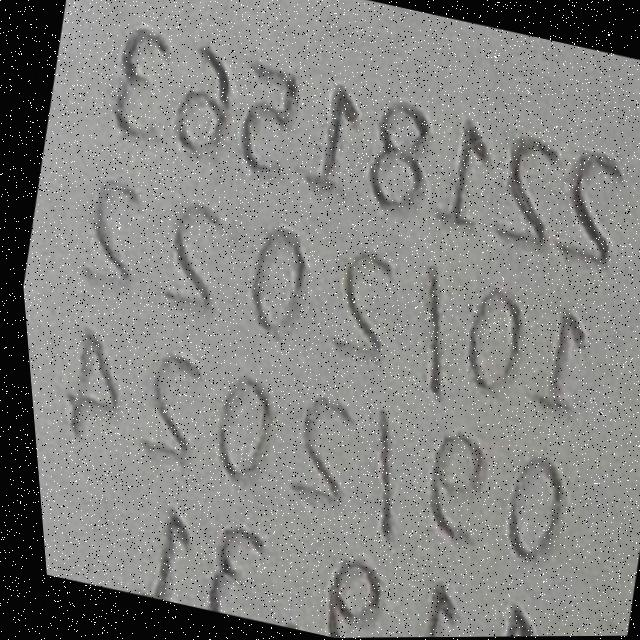sentence: (115, 30, 619, 265), (80, 179, 579, 410), (61, 332, 556, 560), (131, 508, 525, 638)
